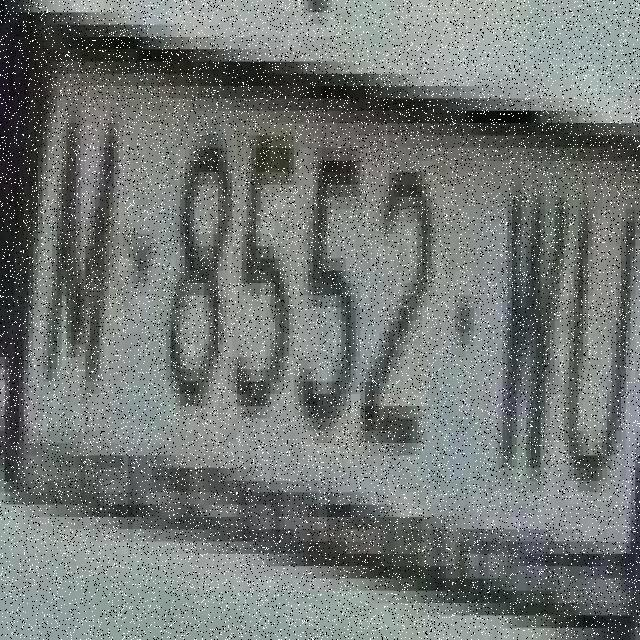licenseplate: (3, 16, 637, 593)
